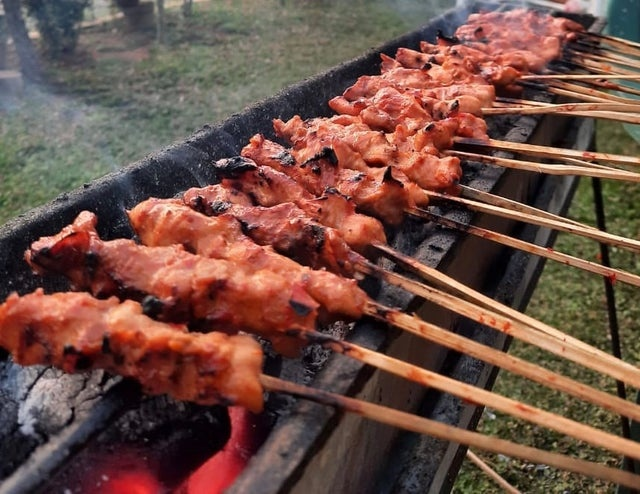sate: (22, 210, 640, 486), (125, 159, 639, 389), (242, 115, 640, 194)
